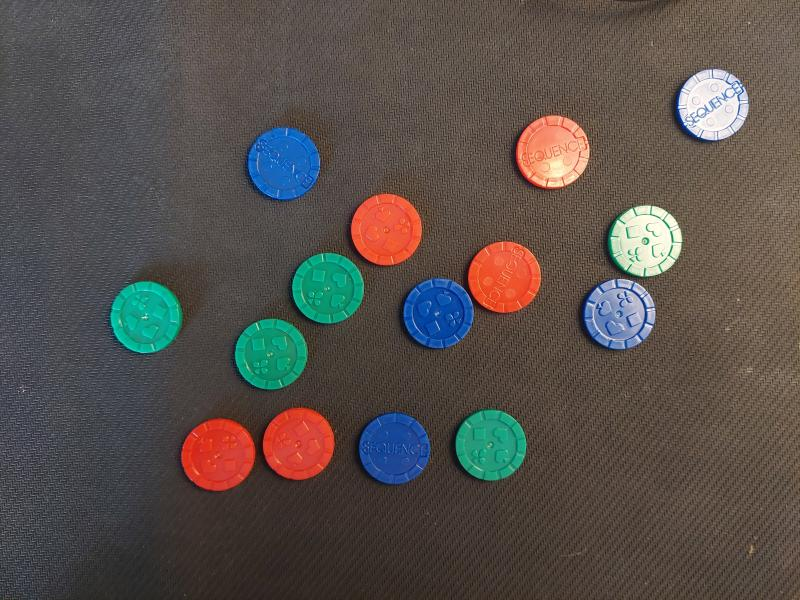Blue_Token: (668, 63, 756, 147), (241, 121, 327, 205), (352, 404, 434, 490), (574, 276, 662, 355), (394, 274, 478, 353)
Green_Token: (105, 275, 193, 360), (448, 403, 532, 486), (602, 201, 688, 278), (228, 315, 310, 395), (286, 248, 368, 328)
Red_Token: (510, 111, 595, 193), (462, 236, 546, 317), (175, 412, 257, 494), (259, 404, 340, 485), (344, 191, 428, 269)
